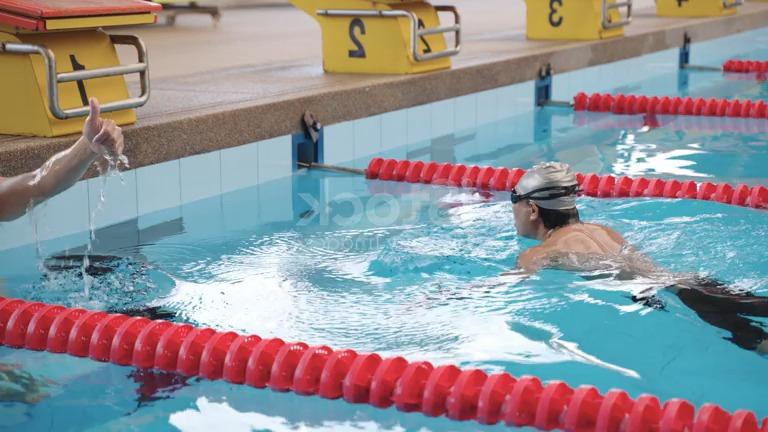Swimming: (501, 159, 767, 359)
